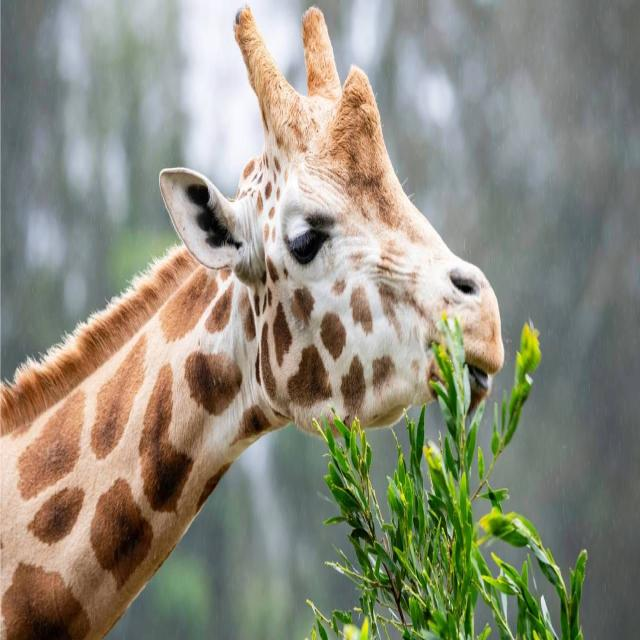Herbivorous: (0, 7, 506, 640)
